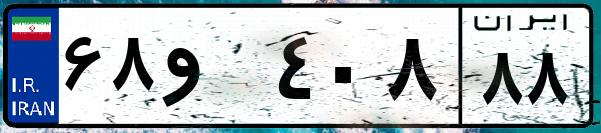0: (330, 28, 385, 110)
4: (270, 28, 330, 110)
6: (57, 26, 110, 100)
8: (385, 28, 445, 110), (475, 38, 525, 113), (525, 38, 570, 115), (110, 28, 158, 98)
و: (158, 20, 270, 120)
